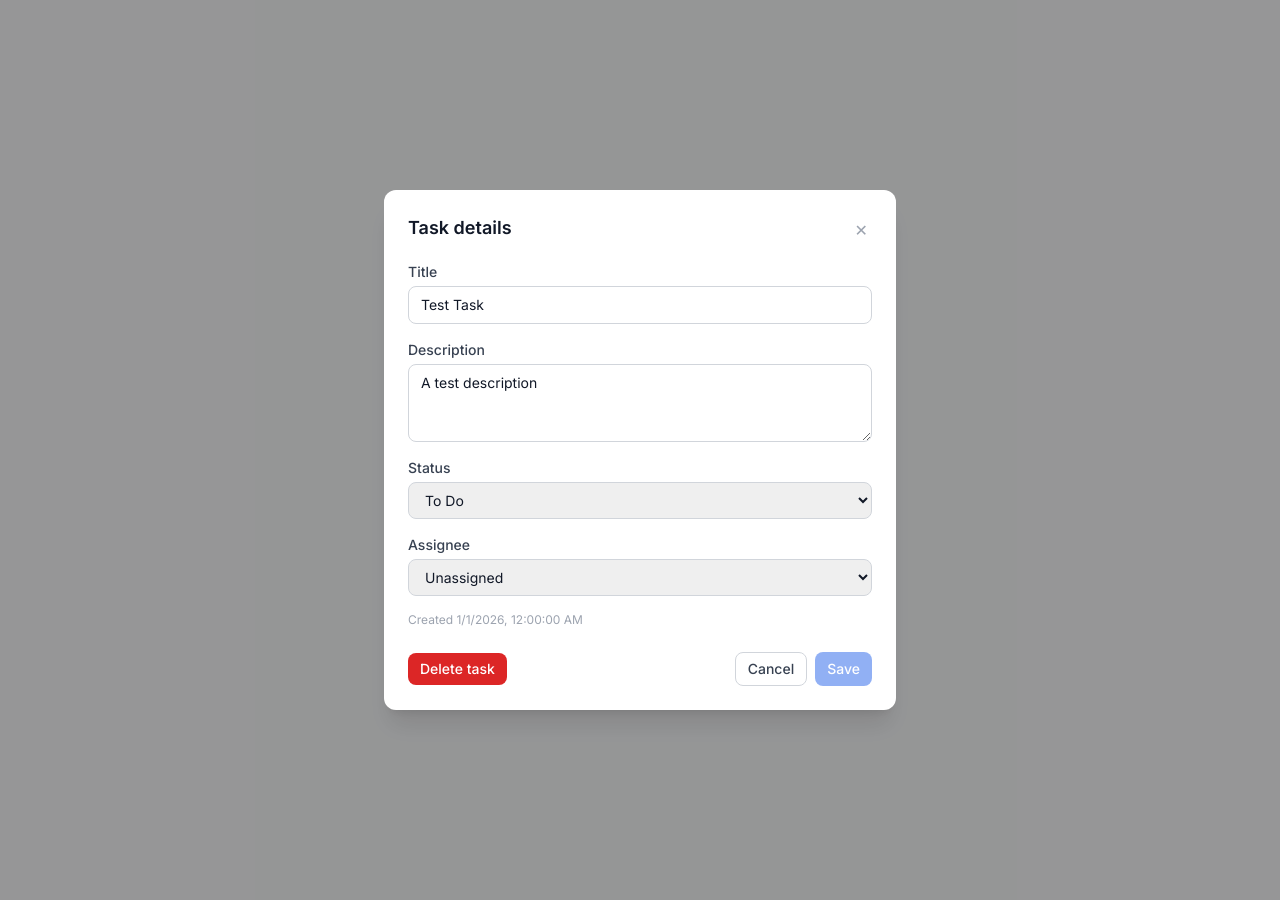
Scenario: TaskModal › ADMIN user › should enable Save after editing title
The image size is (1280, 900).
Replace the text in the field showing "Test Task" with "Updated Title": point(640, 305) 408,286 -> 872,324
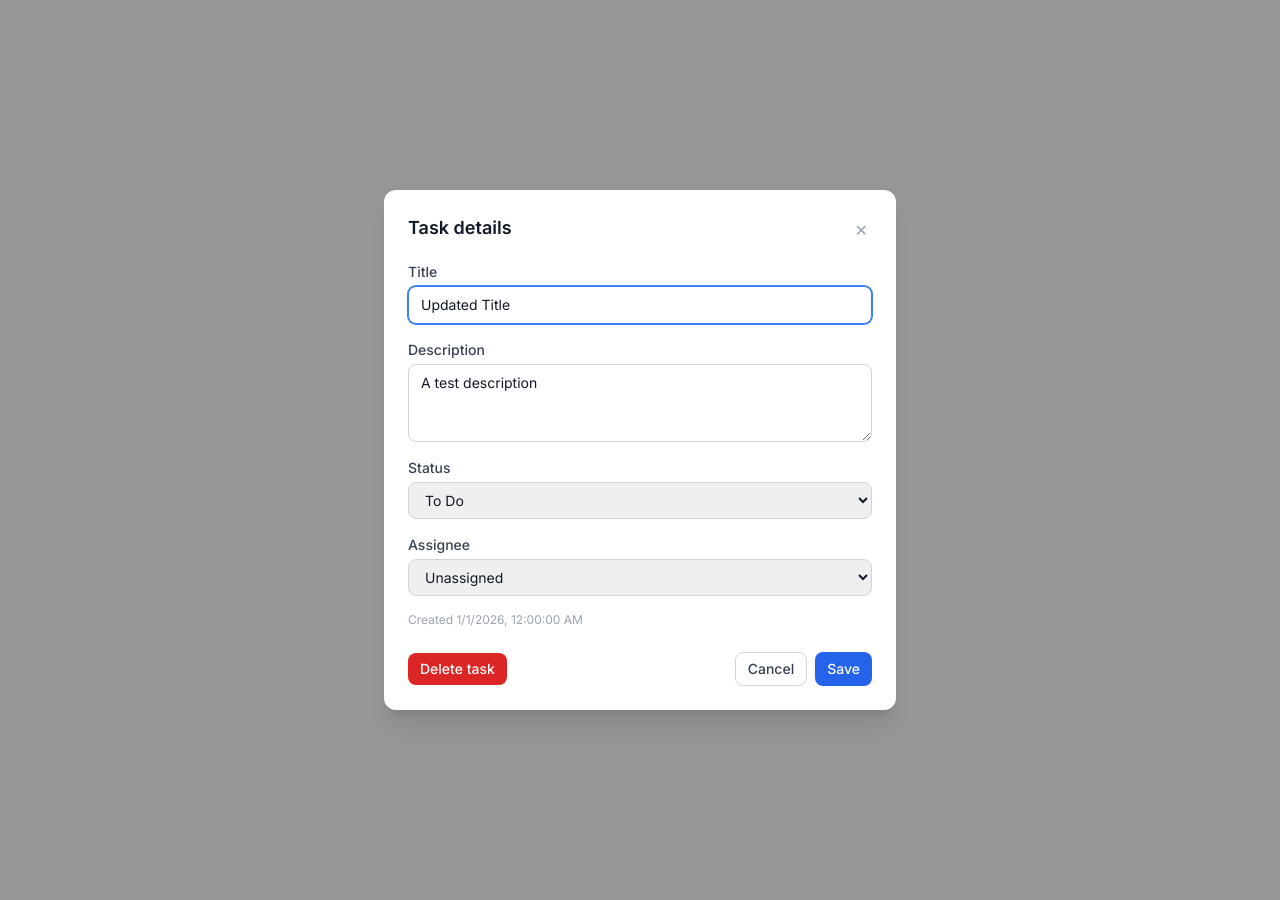
Expected: the button "Save" is enabled, 815,652 -> 872,686
